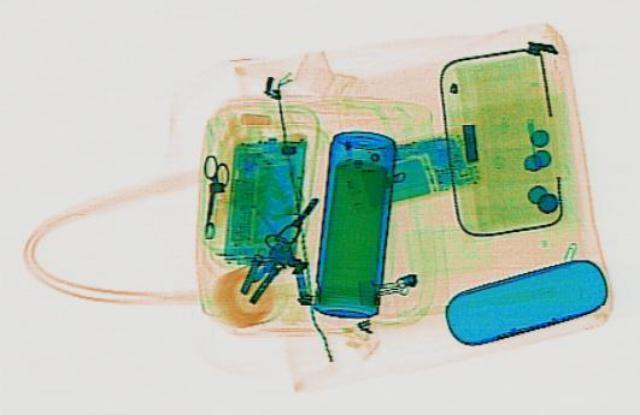Scissors: (190, 153, 232, 234)
